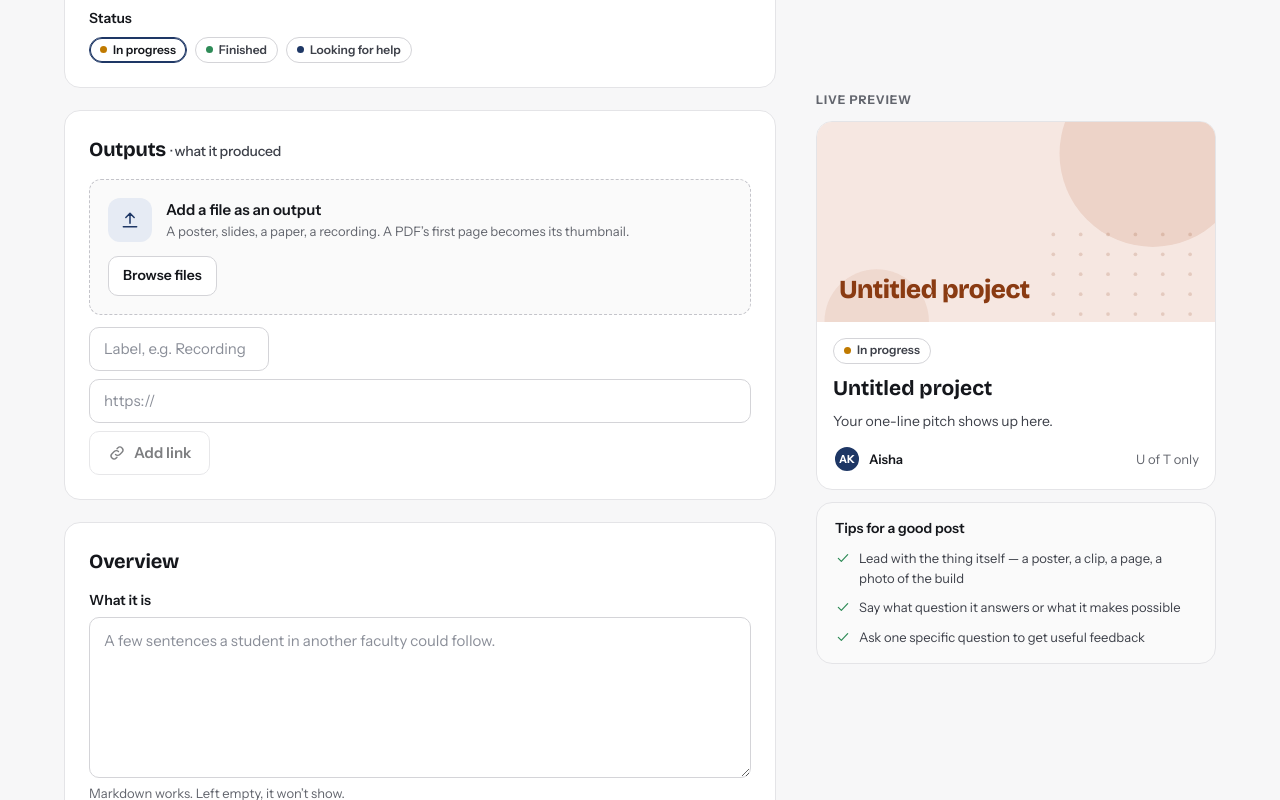
Scenario: a link output › can take the preview image its page advertises as its thumbnail
(page scrolled)
Type "https://youtu.be/x" into the field named "Link to add as an output". click: {"x": 420, "y": 401}
box: [89,379,751,423]
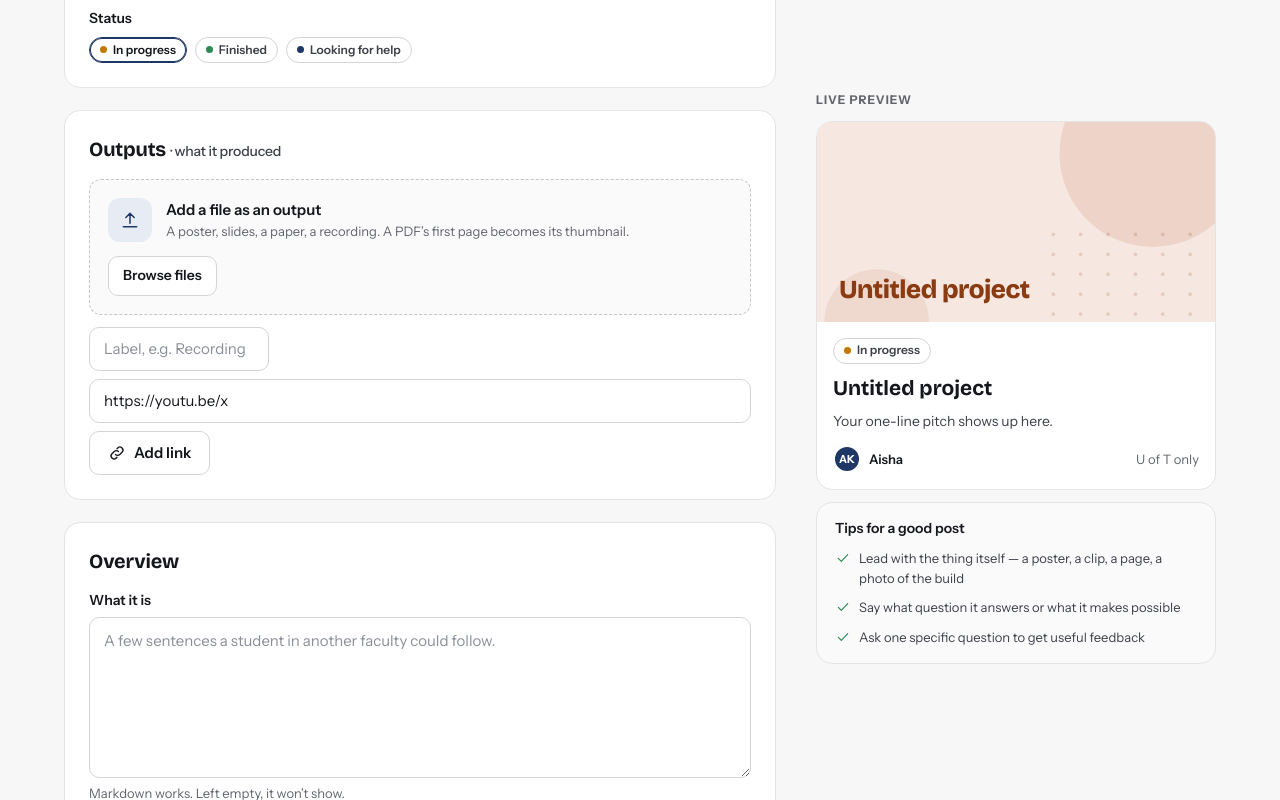
Click the button "Add link". click: {"x": 150, "y": 453}
box: [89,431,210,475]
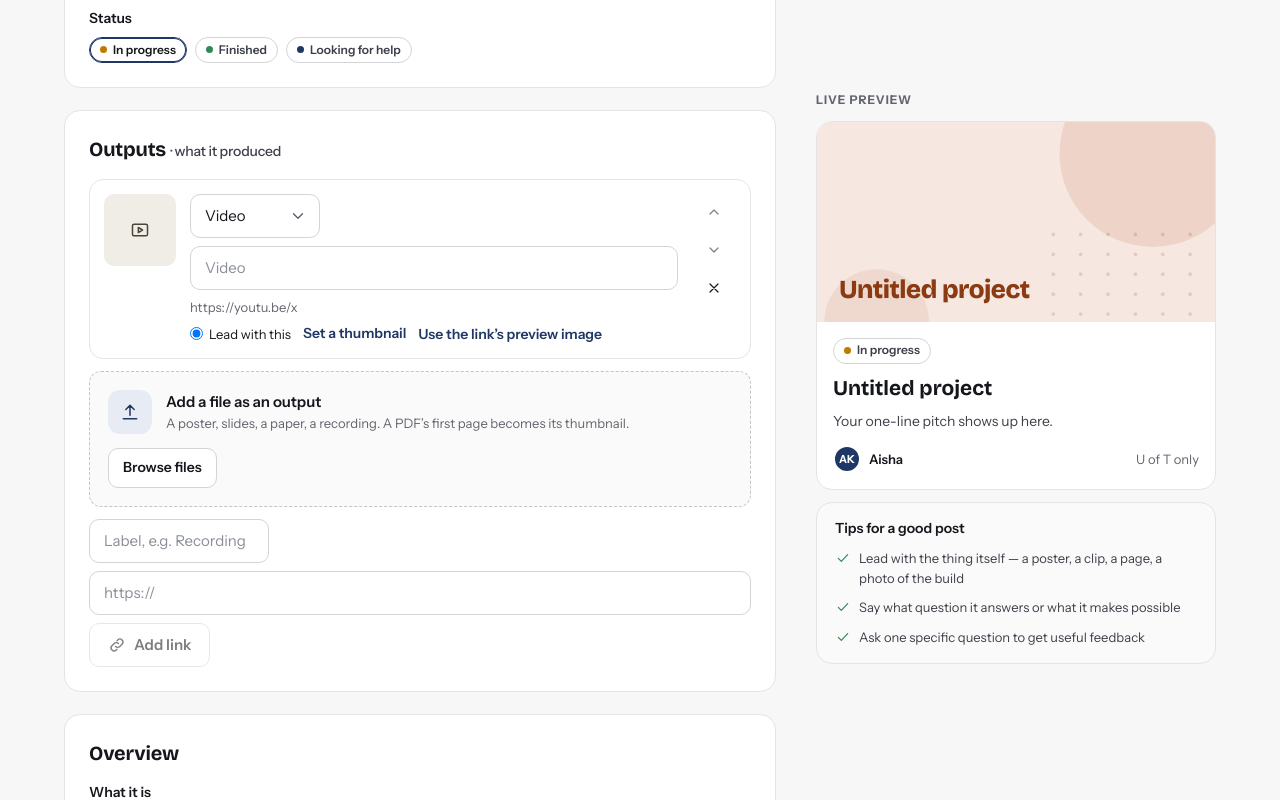
Click the button "Use the link’s preview image". click: {"x": 510, "y": 334}
box: [418,325,602,343]
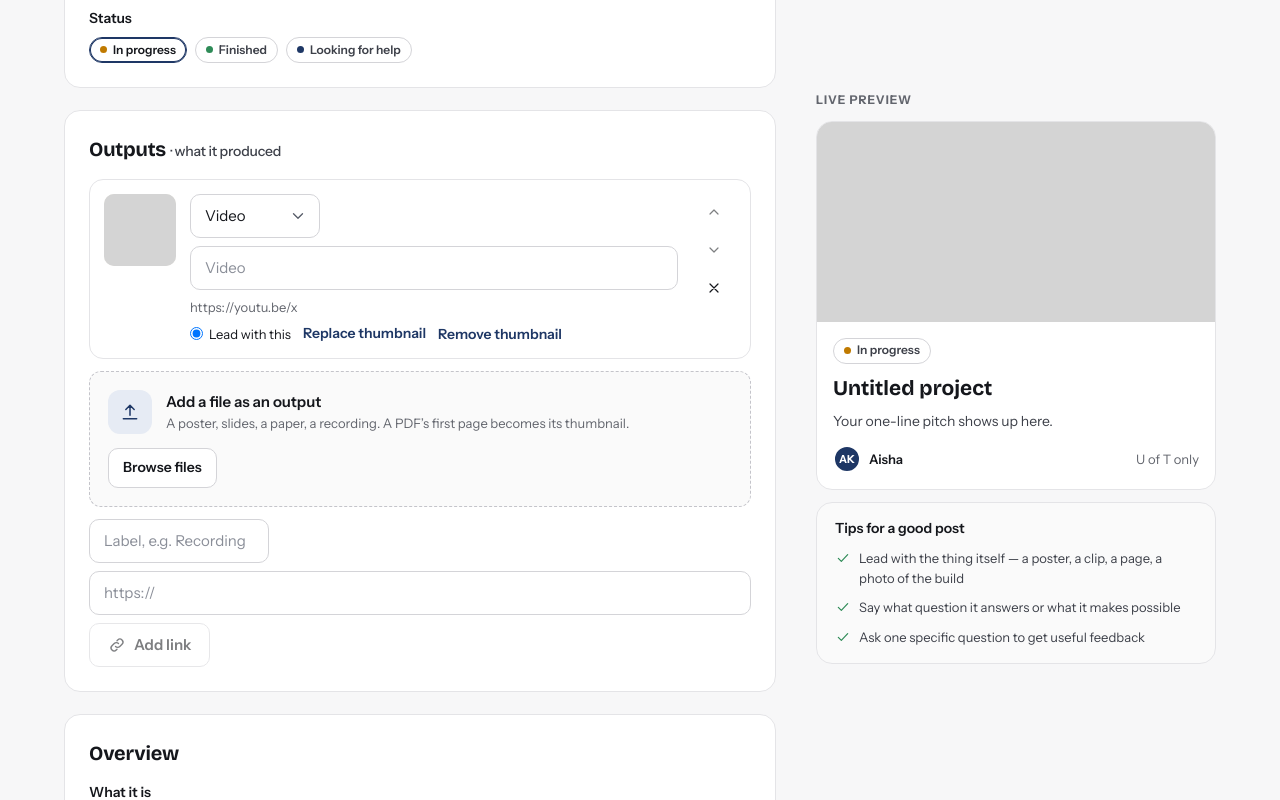
Expected: the button "Remove thumbnail" is shown, [438,325,562,343]
Expected: the button "Use the link’s preview image" is gone
